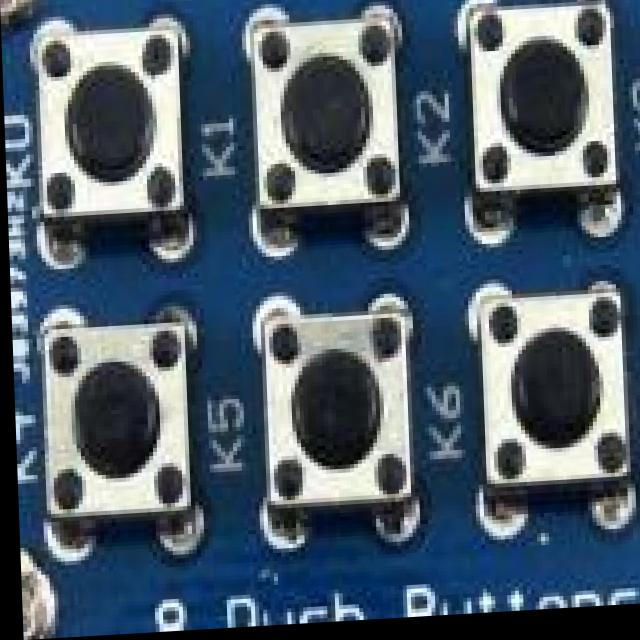switch: (29, 12, 190, 269), (241, 22, 402, 253), (465, 0, 619, 226), (473, 295, 627, 504), (258, 314, 410, 522), (38, 324, 187, 525)
